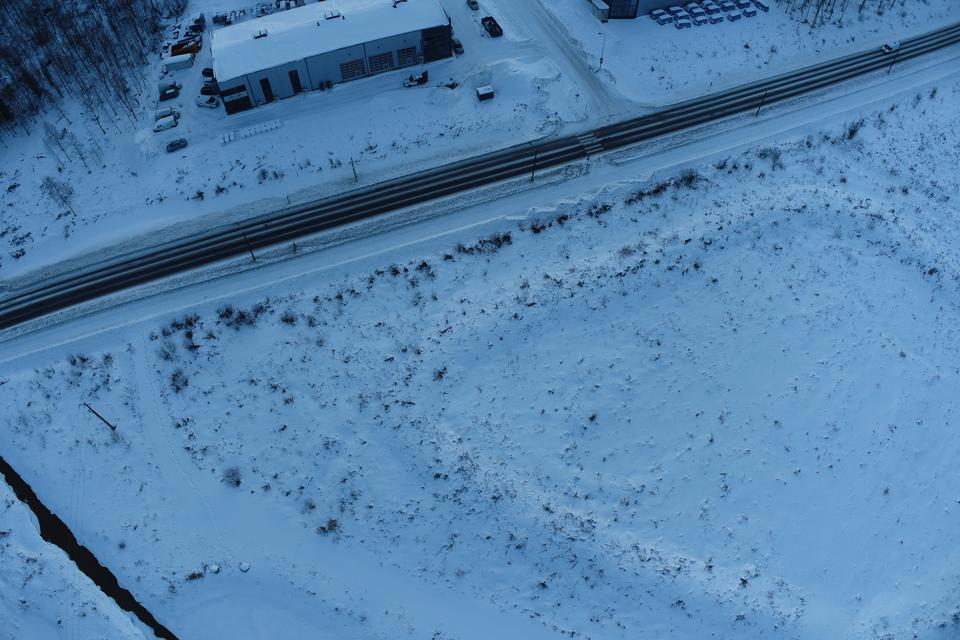intersection: (545, 46, 672, 204)
